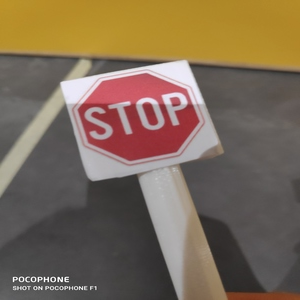stop-bord: (72, 68, 204, 164)
